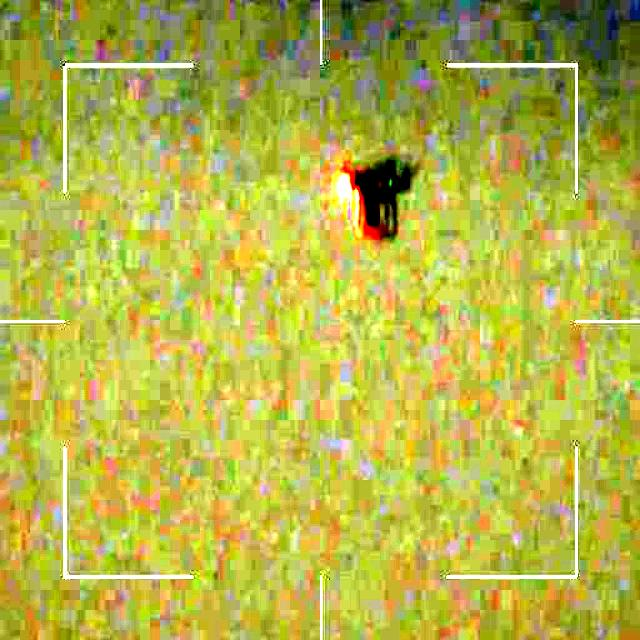bird: (322, 150, 416, 254)
